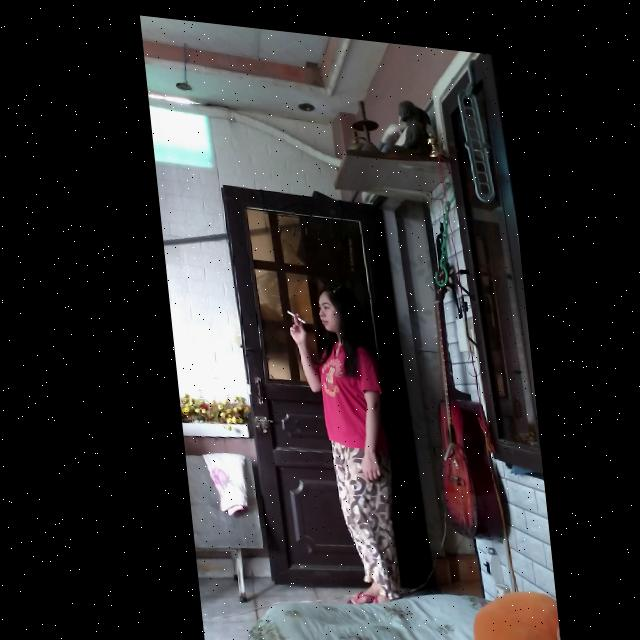cigarette: (281, 305, 300, 318)
